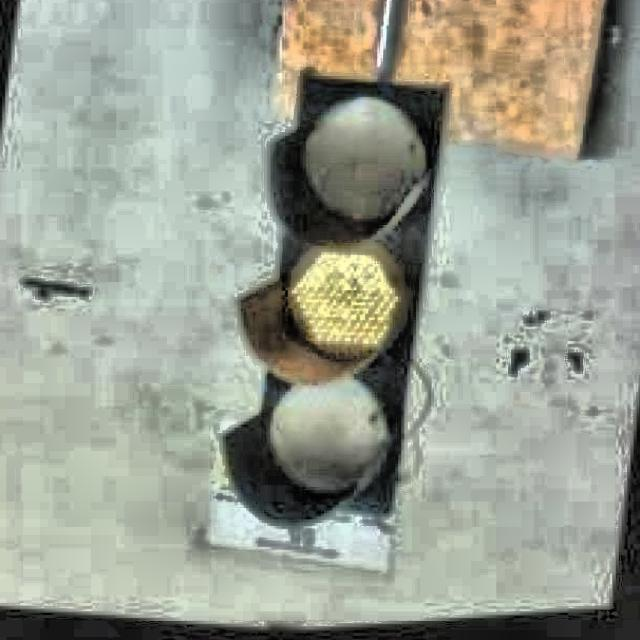yellow: (254, 77, 415, 516)
